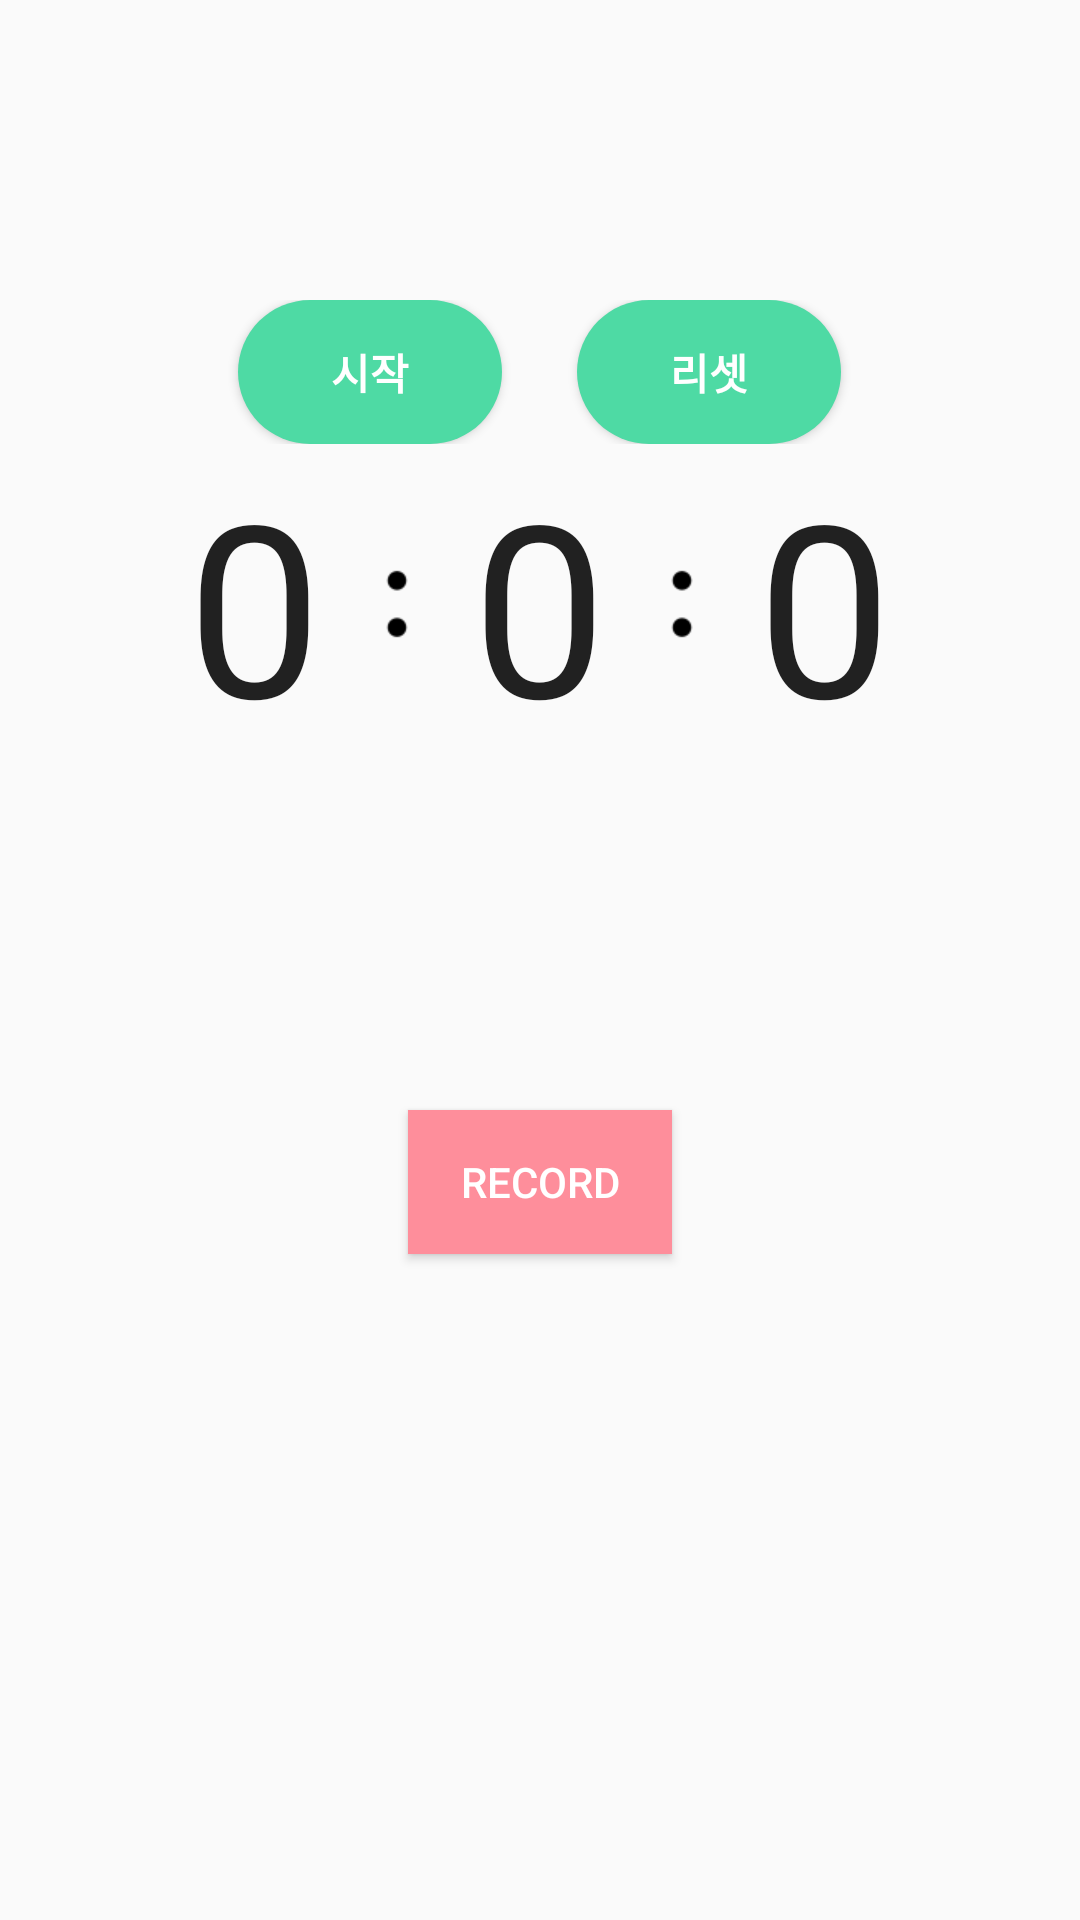

Named icons in this screenshot (1080w x 1920h) and their bounding boxes, region(x1, y1, x2, y2):
colon: region(386, 570, 408, 638), region(671, 570, 693, 638)
